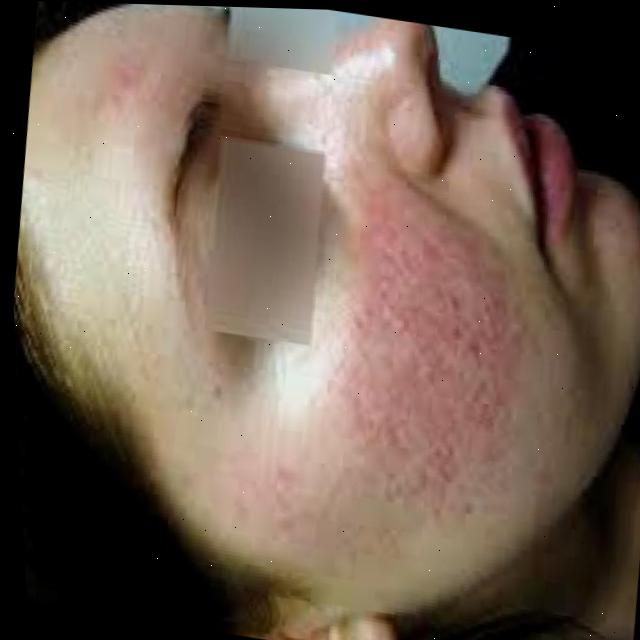Rosacea: (318, 233, 524, 490)
